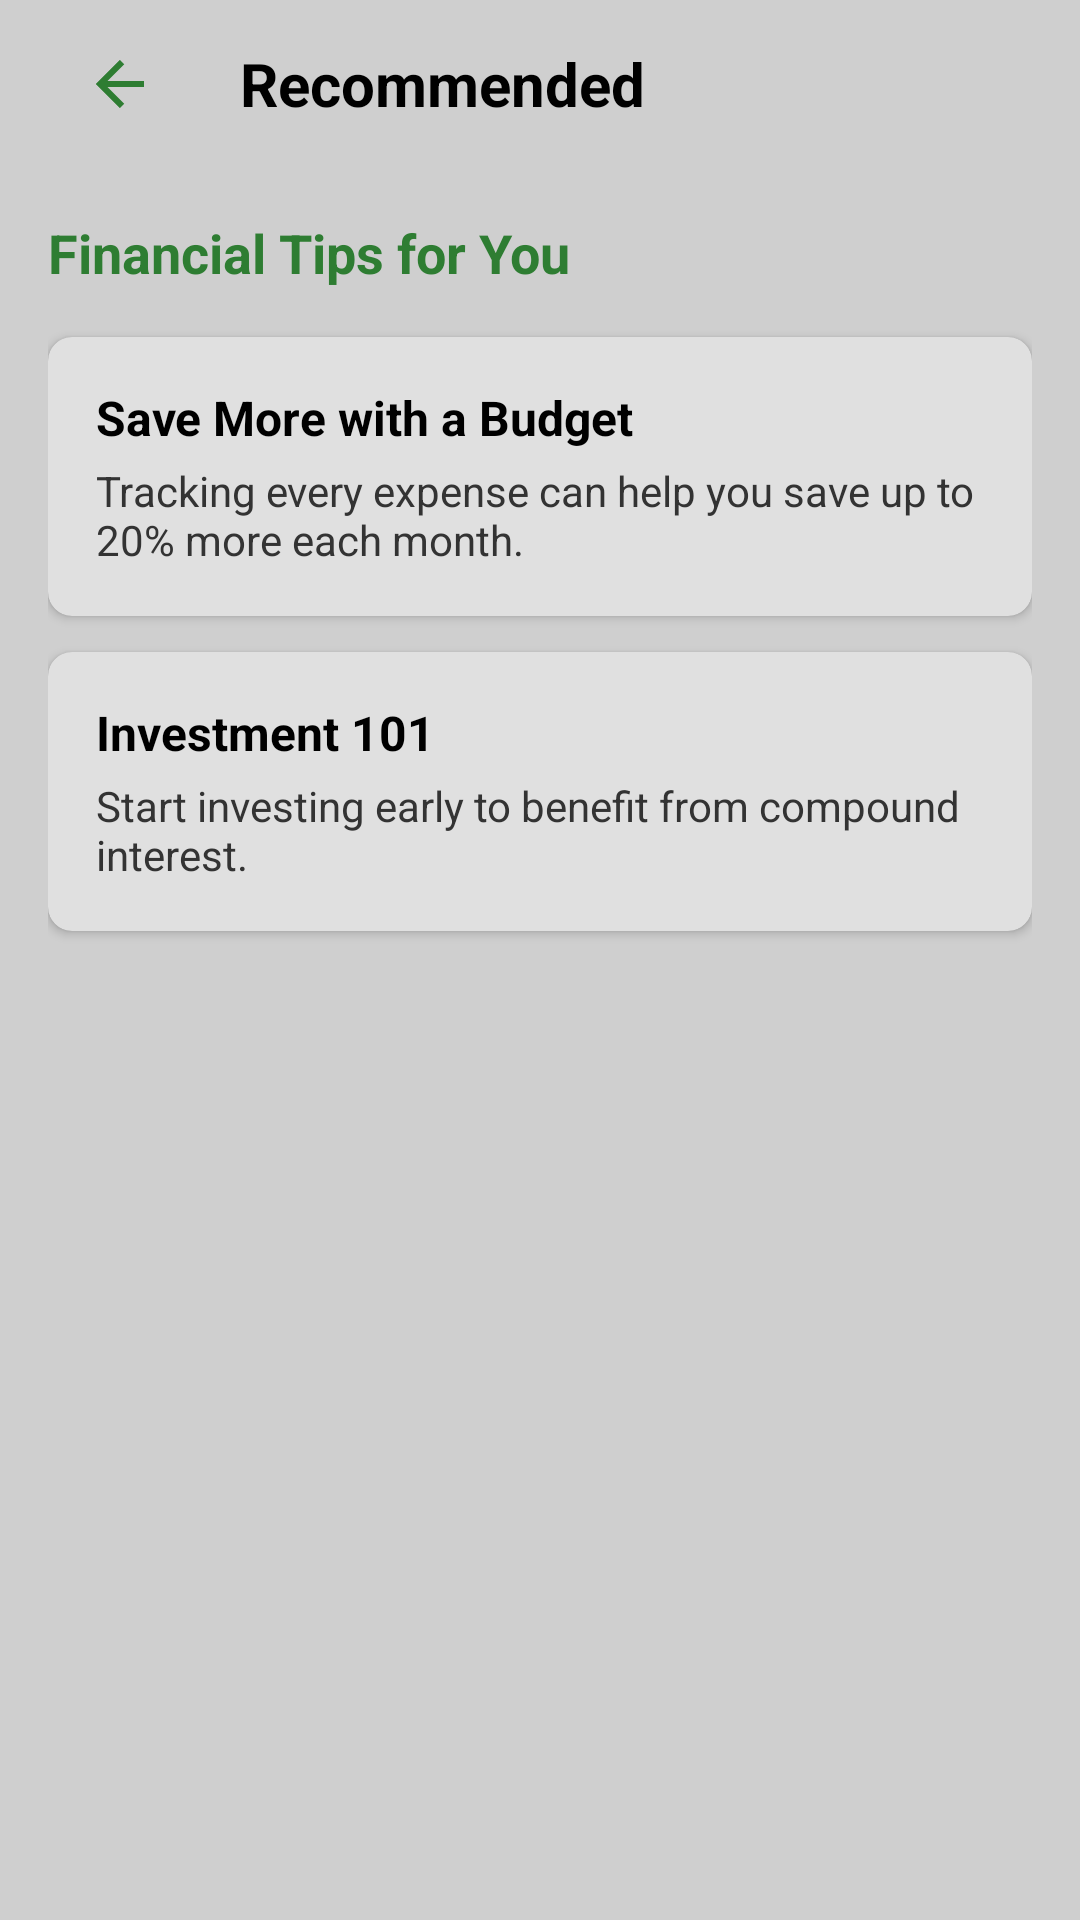

Screen size 1080 × 1920. Icon name, then its center in pixels as point (x, y):
Back: point (120, 84)
